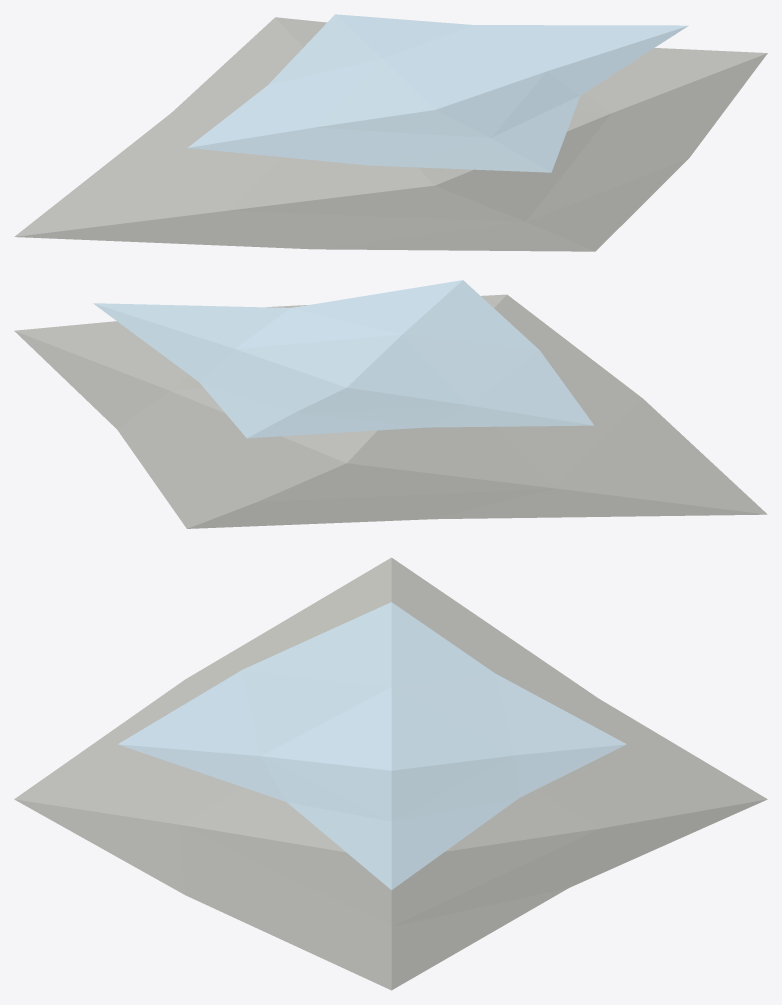
File: puddle_stone_v35.glb
The picture shows the model from 3 angles, top to bottom: view 1: azimuth 30°, elevation 25°; view 2: azimuth 150°, elevation 25°; view 3: azimuth 270°, elevation 25°; orthographic projection. The views are drawn at different scales.
Parts seen in each view (by area): view 1: lod0; view 2: lod0; view 3: lod0.
Part boxes in pixels (bbox=[...]): lod0: bbox=[14, 14, 767, 251]; lod0: bbox=[14, 280, 767, 528]; lod0: bbox=[14, 557, 767, 990].
Size of what is drawn, in the model's own units: 1.18 by 0.1807 by 0.8694.
